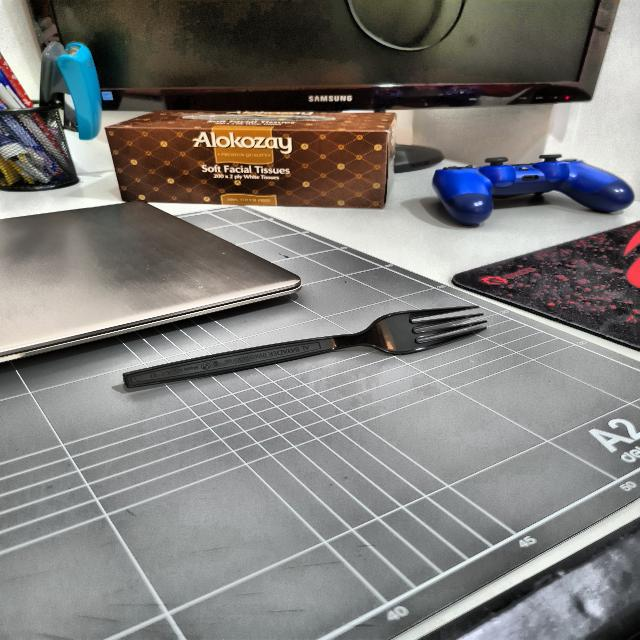plastic utensil: (115, 302, 494, 397)
